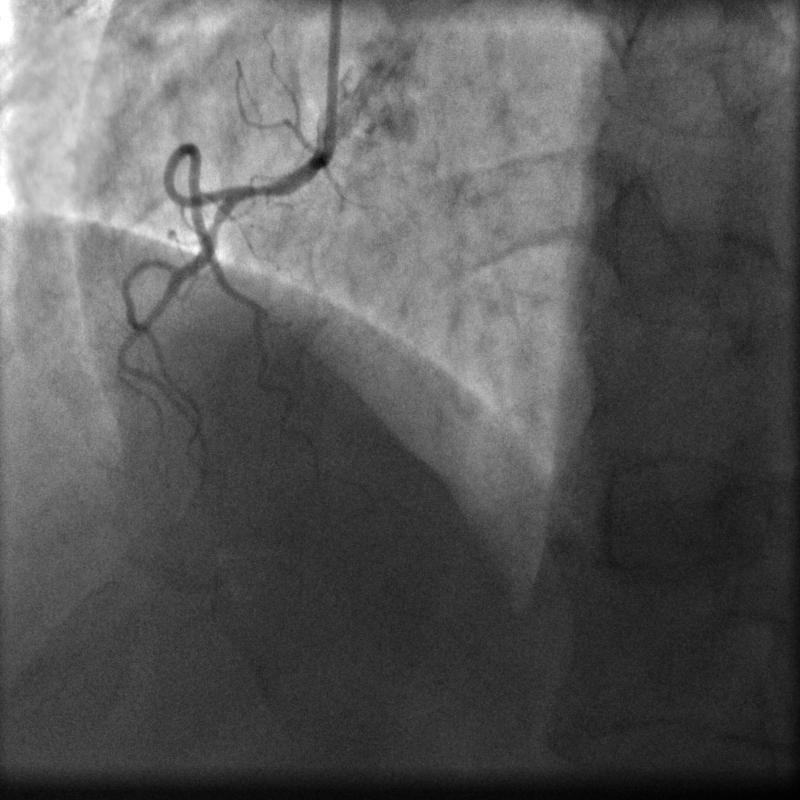Stenosis: (236, 173, 284, 209)
